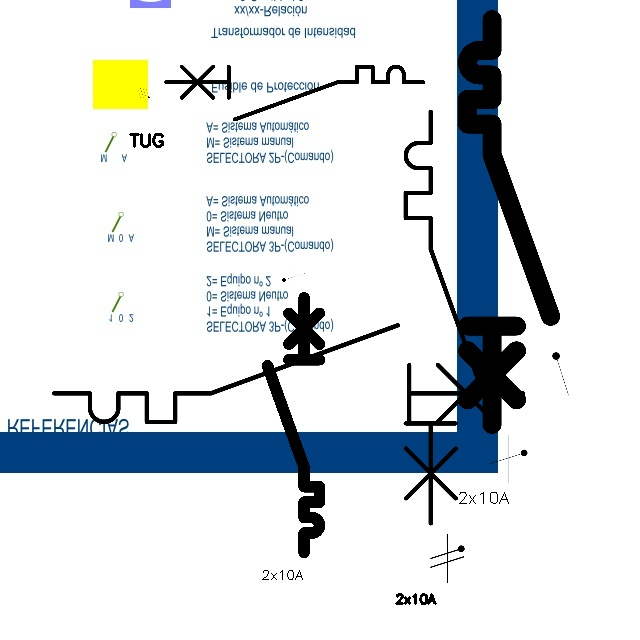interruptor_termomagnetico: (42, 313, 535, 434), (395, 101, 501, 534), (457, 9, 561, 435), (159, 60, 429, 126), (261, 291, 326, 559)
